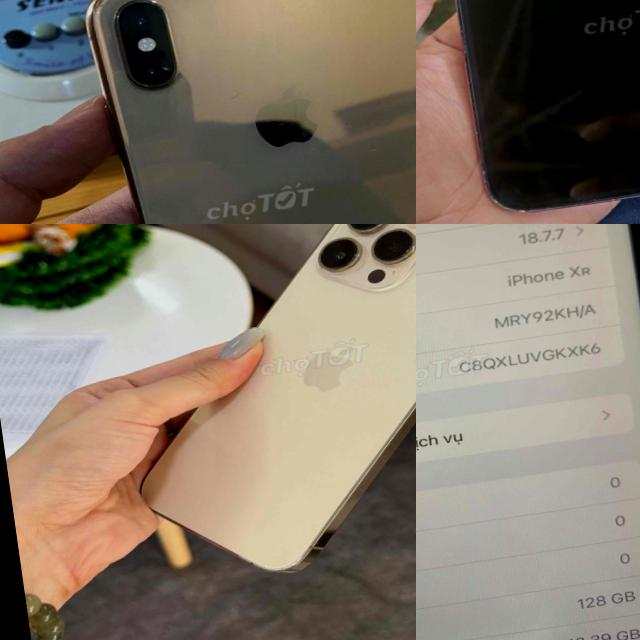gen_12_13: (455, 0, 640, 209)
gen_14: (91, 224, 416, 601)
gen_x_xs: (416, 224, 640, 640), (67, 0, 416, 224)
